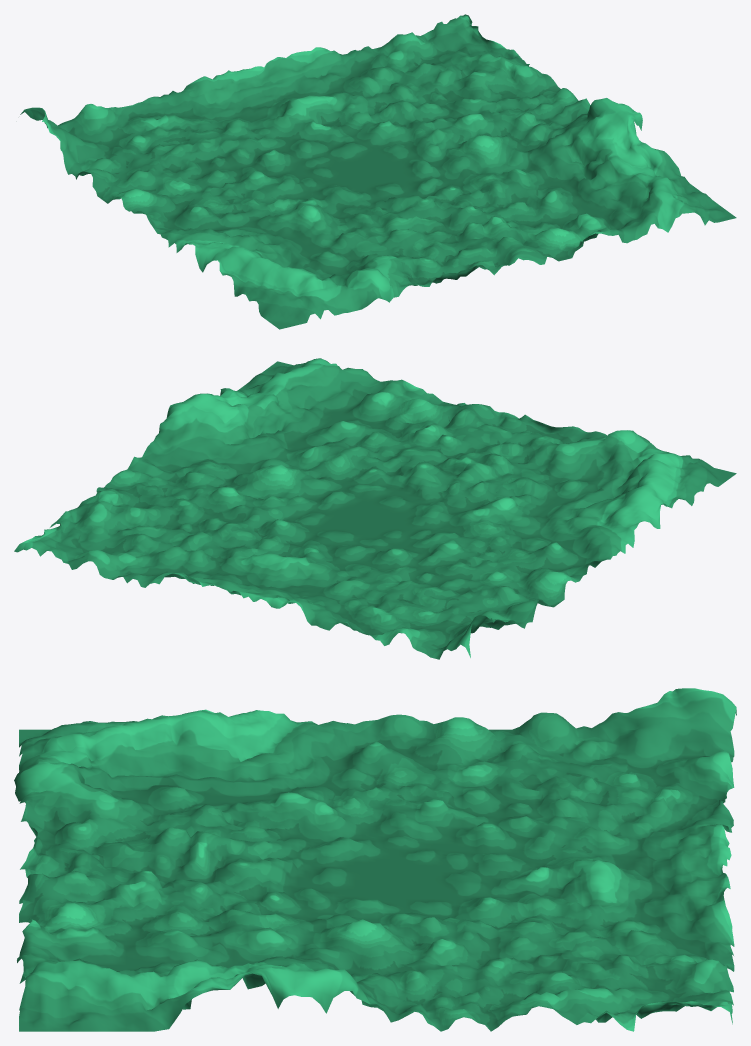
The model's file is Terrain Final.fbx.
3 views of the same model, one above another, from view 1: azimuth 30°, elevation 25°; view 2: azimuth 150°, elevation 25°; view 3: azimuth 270°, elevation 25° (orthographic). The views are drawn at different scales.
Visible parts, largest first — view 1: pPlane1; view 2: pPlane1; view 3: pPlane1.
Part boxes in pixels (box(x1,y1,x2,y2)): pPlane1: box(20, 14, 736, 329); pPlane1: box(14, 358, 736, 659); pPlane1: box(14, 688, 736, 1031).
Bounding box in the file's own units: 99.72 × 8.06 × 99.63.
